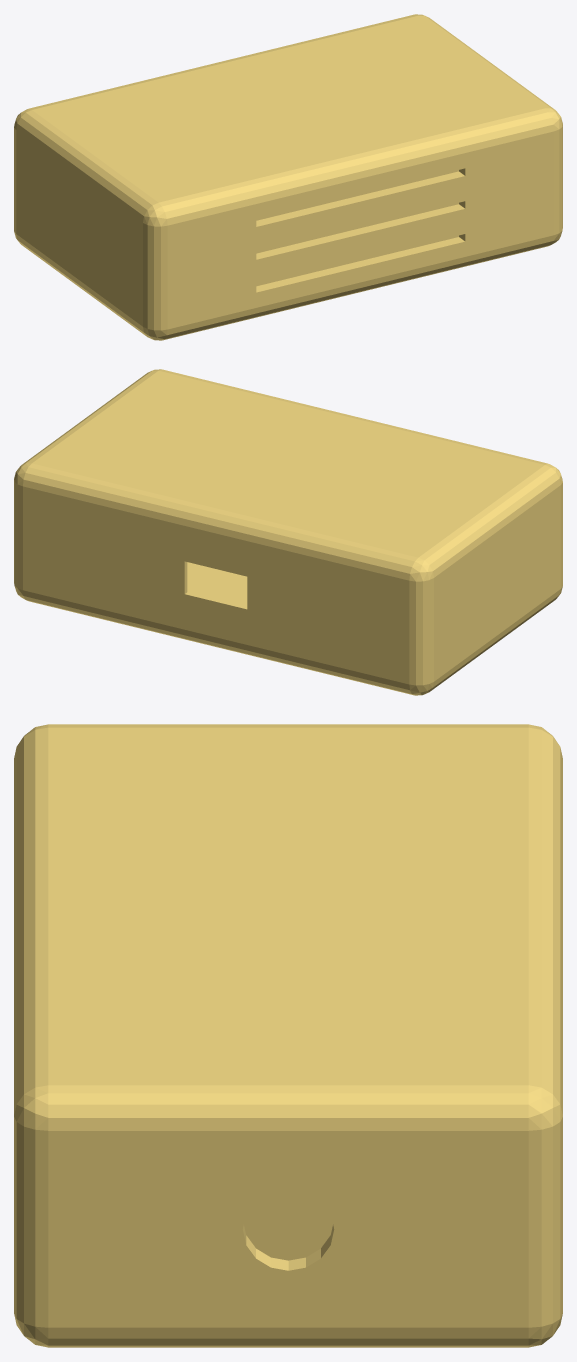
The model's file is rear_pod.glb.
The picture shows the model from 3 angles, top to bottom: view 1: azimuth 30°, elevation 25°; view 2: azimuth 150°, elevation 25°; view 3: azimuth 270°, elevation 25°; orthographic projection. The views are drawn at different scales.
Parts seen in each view (by area): view 1: rear_pod; view 2: rear_pod; view 3: rear_pod.
Boxes of the visible parts, x1=… form: rear_pod: x1=14, y1=14, x2=562, y2=340; rear_pod: x1=14, y1=369, x2=562, y2=695; rear_pod: x1=14, y1=724, x2=562, y2=1347.
Bounding box in the file's own units: 0.08 × 0.025 × 0.048.
